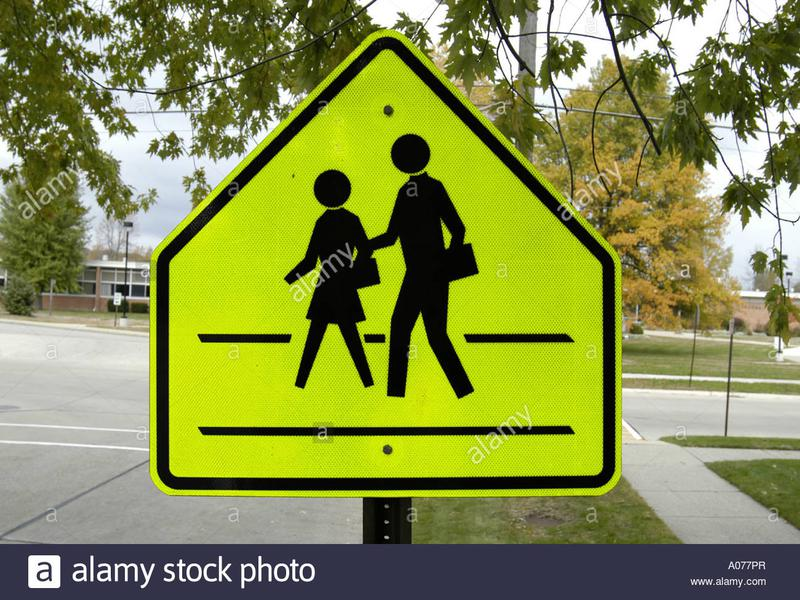slow: (143, 29, 632, 497)
